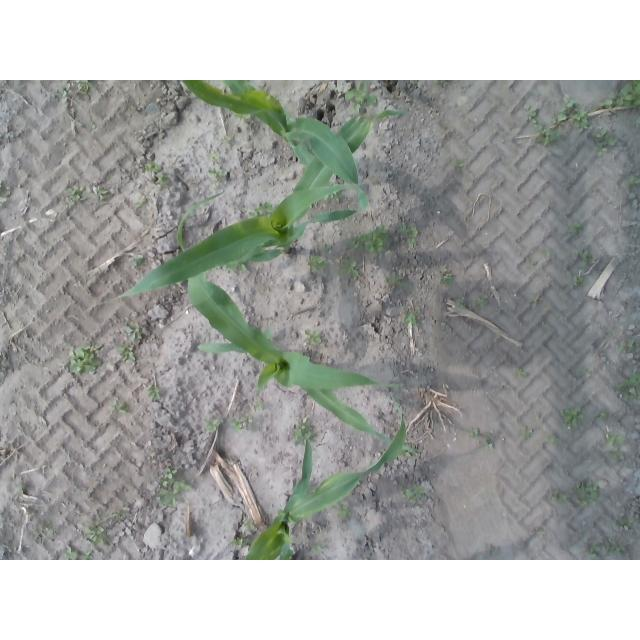Maize: (176, 191, 416, 451), (103, 111, 404, 305), (245, 396, 406, 561), (183, 81, 370, 212)
Weeds: (522, 103, 559, 145), (546, 479, 602, 506), (552, 96, 591, 133), (156, 466, 191, 506), (598, 81, 640, 114), (68, 344, 106, 375), (346, 80, 380, 113), (348, 224, 388, 252), (582, 537, 627, 559), (63, 182, 89, 213), (615, 370, 640, 402), (591, 128, 617, 156), (292, 416, 316, 446), (561, 405, 586, 429), (145, 161, 170, 185), (396, 224, 420, 248), (401, 478, 427, 500), (336, 259, 362, 280), (604, 431, 624, 458), (208, 166, 229, 191), (124, 316, 145, 340), (88, 521, 108, 543), (116, 343, 137, 363), (231, 415, 253, 433), (248, 201, 272, 217), (204, 414, 223, 434), (386, 271, 407, 289), (580, 245, 597, 267), (307, 254, 325, 274), (305, 329, 324, 347), (91, 185, 110, 203), (402, 310, 422, 327), (61, 545, 83, 560), (441, 265, 456, 287), (229, 537, 251, 551), (232, 111, 253, 125), (106, 400, 128, 413), (570, 274, 590, 288), (616, 515, 636, 529), (147, 385, 163, 402), (38, 521, 56, 536), (618, 340, 637, 354), (229, 261, 248, 275), (334, 504, 351, 519), (482, 428, 494, 449), (60, 83, 72, 104), (129, 254, 146, 268), (525, 256, 539, 273), (518, 426, 536, 439), (242, 516, 258, 530), (486, 544, 503, 557), (75, 81, 89, 96), (135, 197, 151, 210), (472, 296, 489, 308), (0, 179, 8, 204), (312, 540, 325, 555), (251, 400, 266, 412), (103, 511, 121, 521), (627, 173, 640, 186), (470, 425, 482, 439), (15, 482, 29, 494), (205, 151, 220, 162), (570, 222, 582, 235), (323, 193, 342, 200), (544, 433, 556, 444), (516, 367, 529, 377), (455, 296, 465, 309), (530, 295, 542, 305), (536, 526, 546, 538), (455, 159, 465, 170), (83, 550, 94, 560), (599, 411, 609, 421), (0, 445, 10, 454), (581, 367, 589, 377), (220, 135, 231, 142), (544, 271, 552, 280), (90, 122, 98, 130), (544, 250, 551, 258), (435, 80, 448, 84), (635, 118, 640, 124)
